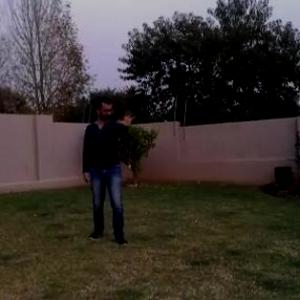follow_hand: (118, 105, 140, 128)
